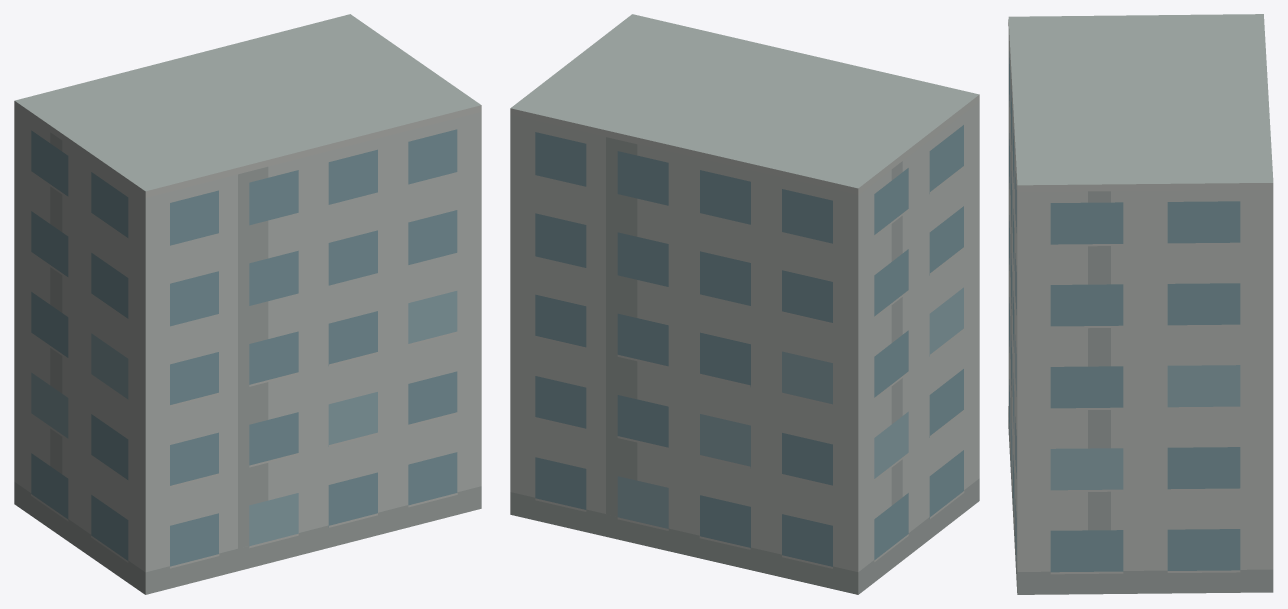
The model's file is survey-upis-32891730.glb.
3 views of the same model, side by side, from view 1: azimuth 30°, elevation 25°; view 2: azimuth 150°, elevation 25°; view 3: azimuth 270°, elevation 25° (orthographic).
Parts seen in each view (by area): view 1: survey-upis-32891730.tmp; view 2: survey-upis-32891730.tmp; view 3: survey-upis-32891730.tmp.
Boxes of the visible parts, x1=… form: survey-upis-32891730.tmp: x1=14, y1=14, x2=481, y2=594; survey-upis-32891730.tmp: x1=510, y1=14, x2=979, y2=594; survey-upis-32891730.tmp: x1=1008, y1=14, x2=1273, y2=594.
Size of the model in its own units: 13.1 by 14.6 by 8.57.
